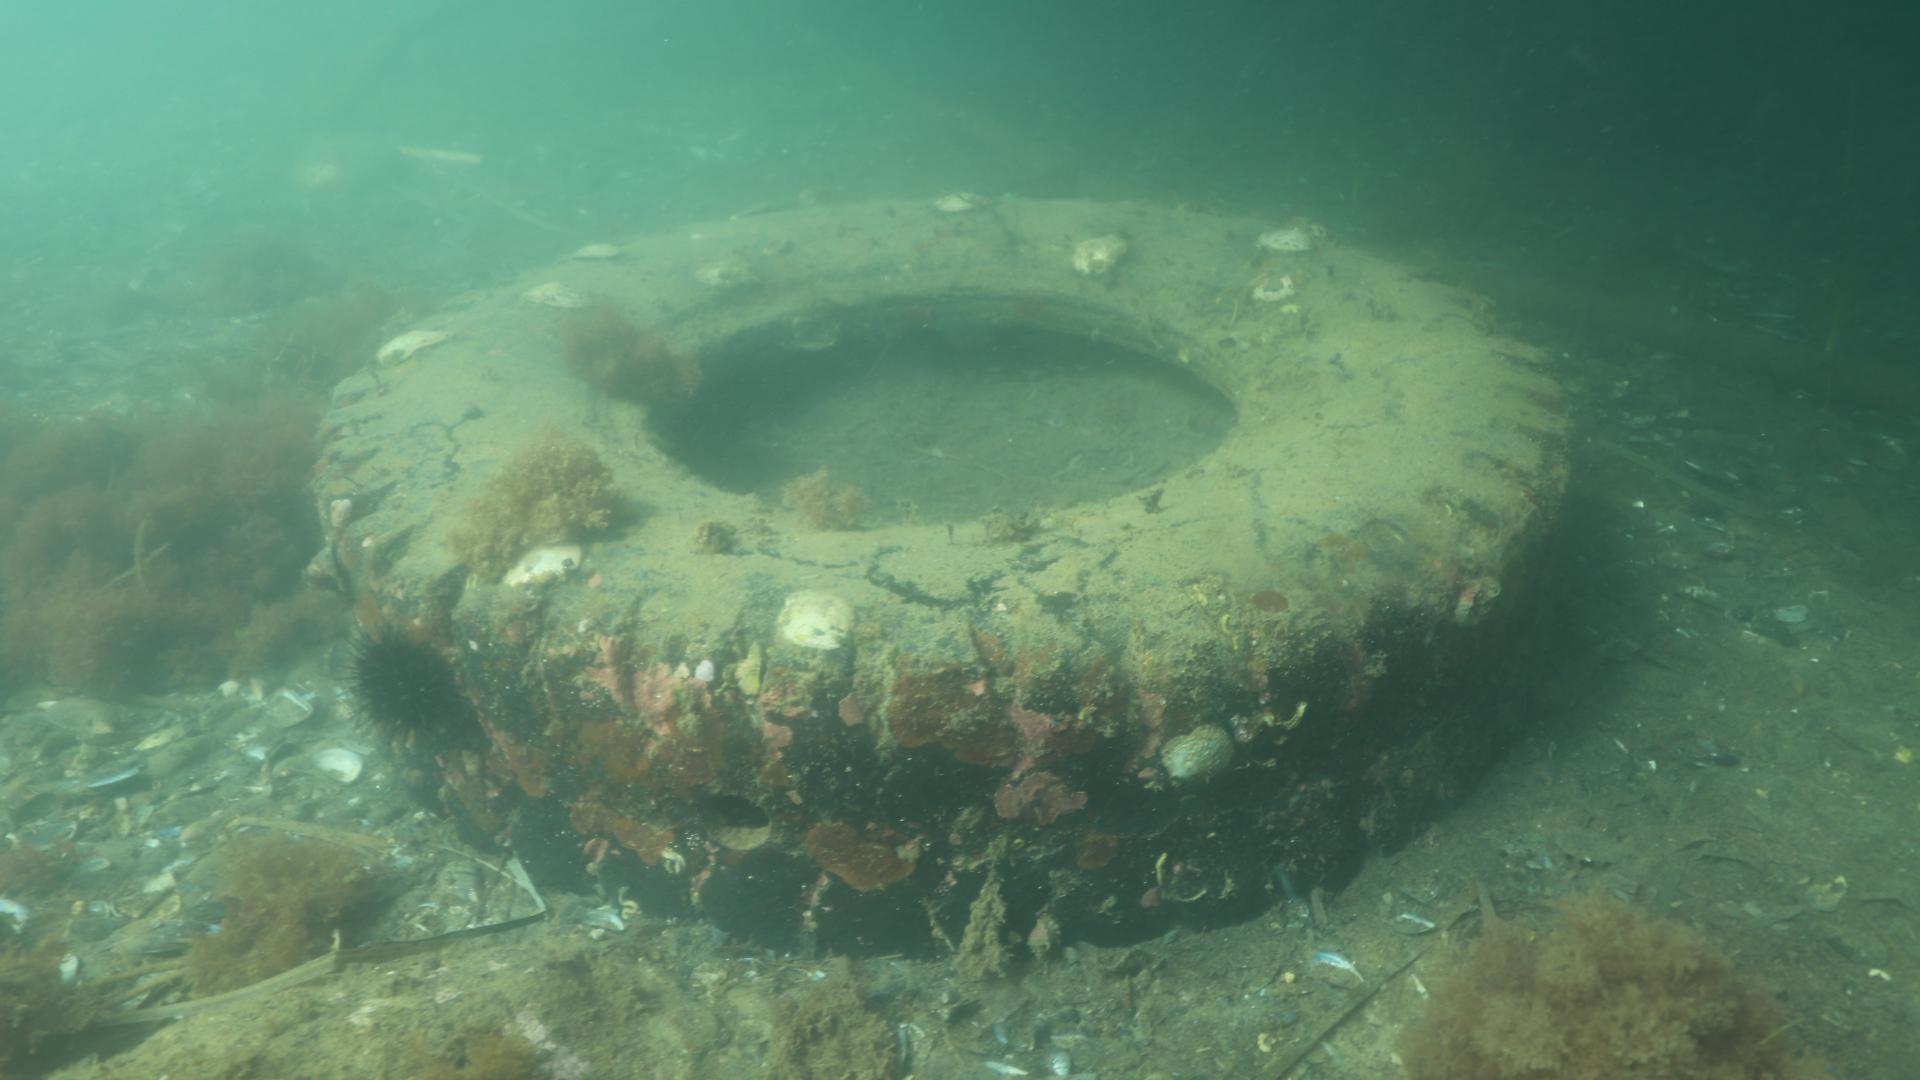tire: (311, 194, 1575, 960)
